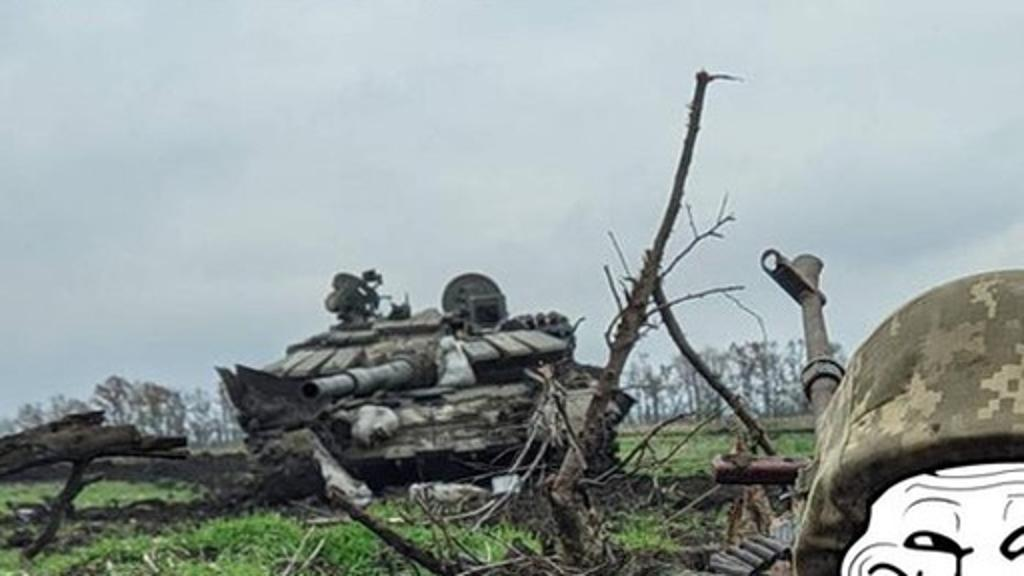TANK: (226, 266, 632, 498)
